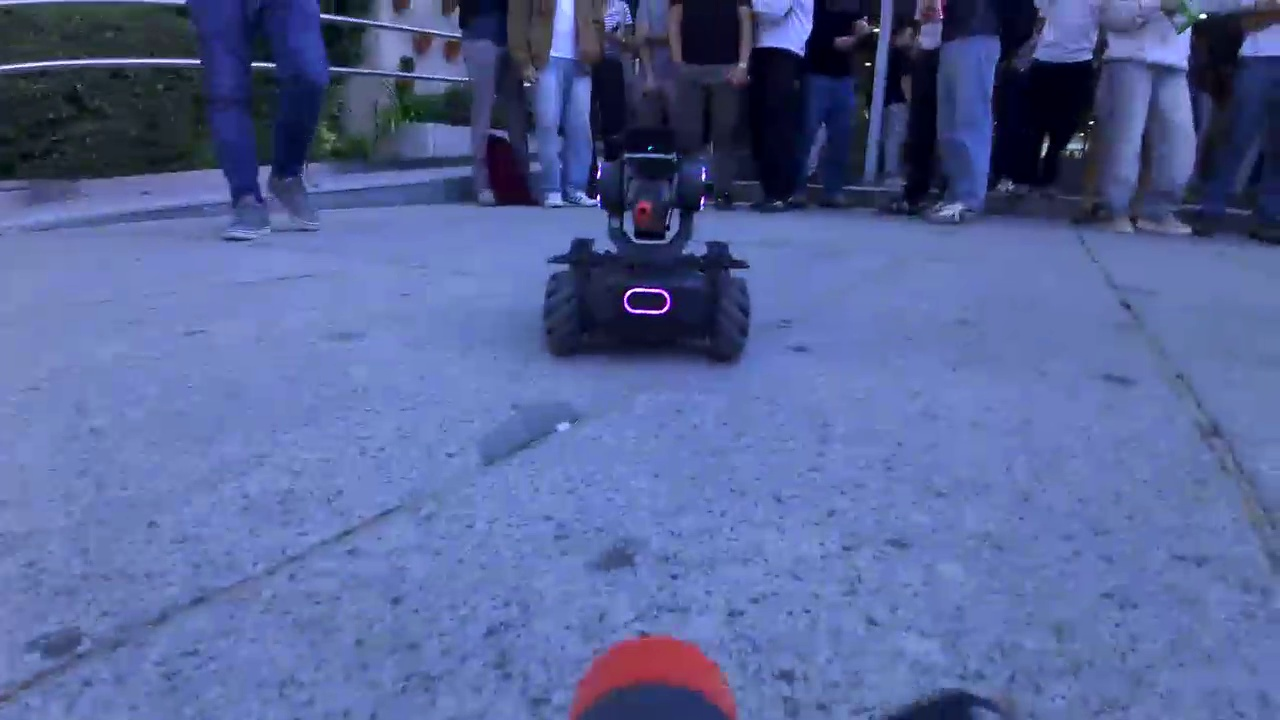robot: (538, 139, 757, 363)
